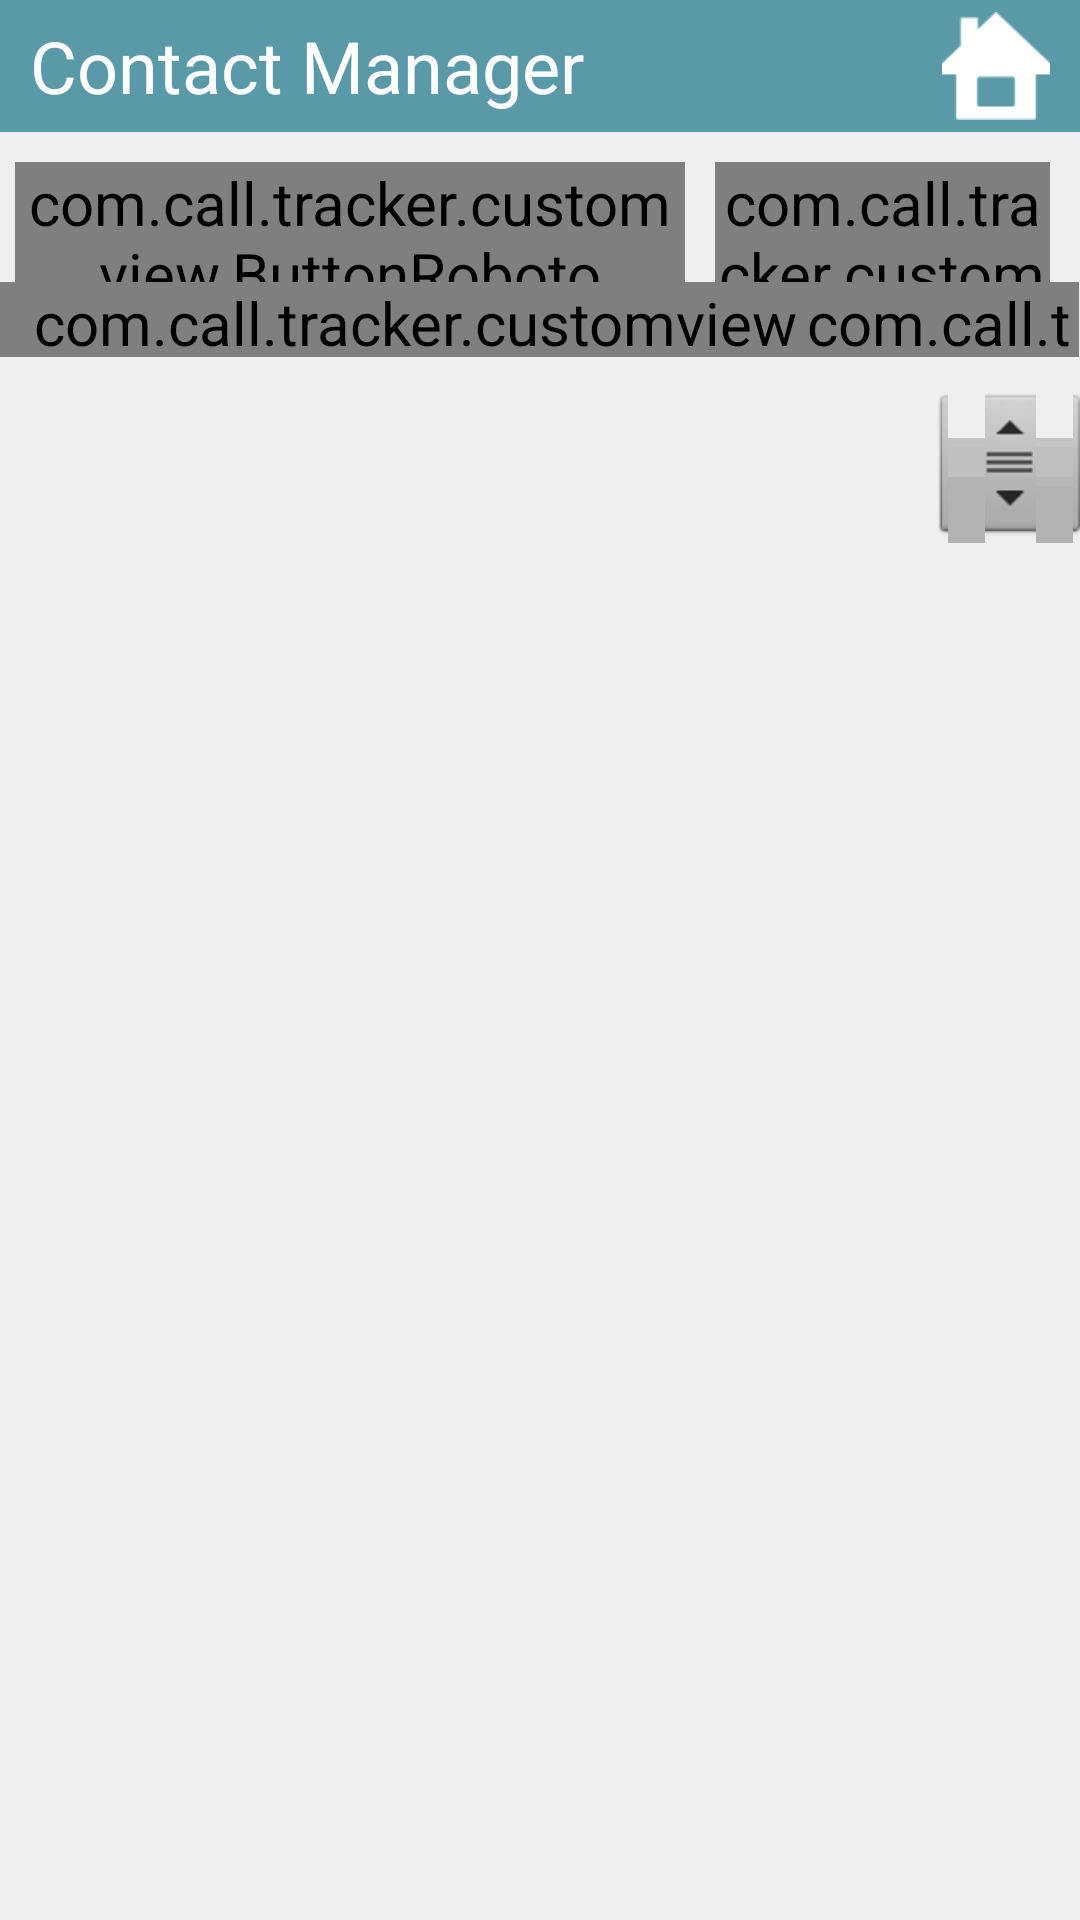

Point at icon controls on the screen. Image size 1080 x 1920, points as (x,y).
home: (996,66)
